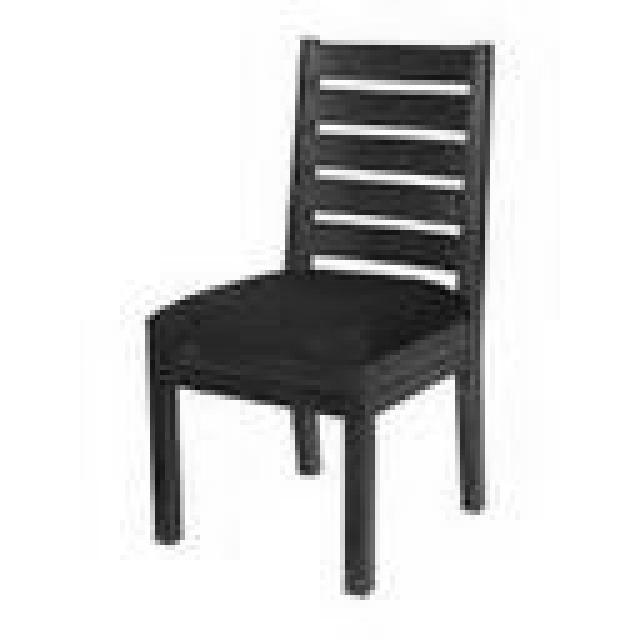chair: (148, 34, 500, 596)
